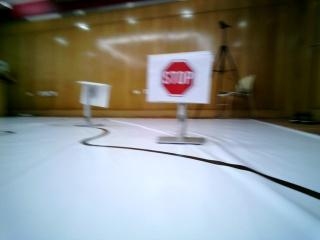stop: (167, 62, 209, 99)
